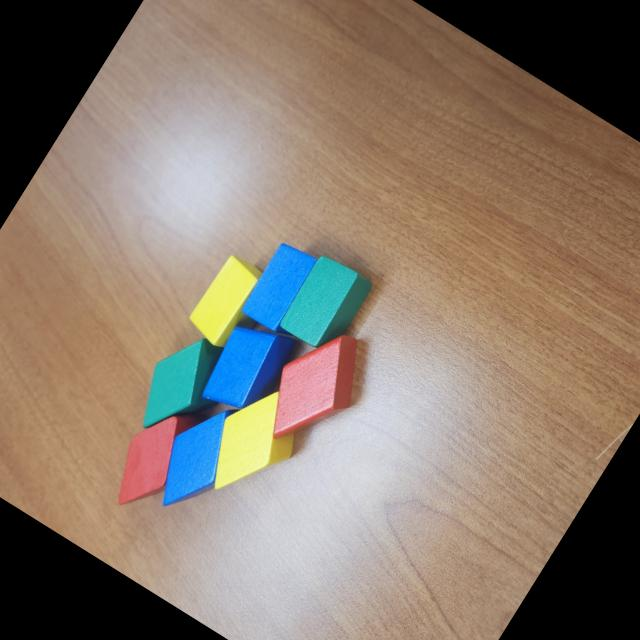blue: (138, 386, 258, 524), (193, 308, 307, 432), (236, 238, 320, 336)
green: (123, 322, 244, 456), (272, 248, 379, 362)
red: (246, 313, 382, 465), (98, 392, 208, 522)
yellow: (190, 372, 318, 514), (182, 252, 268, 352)
